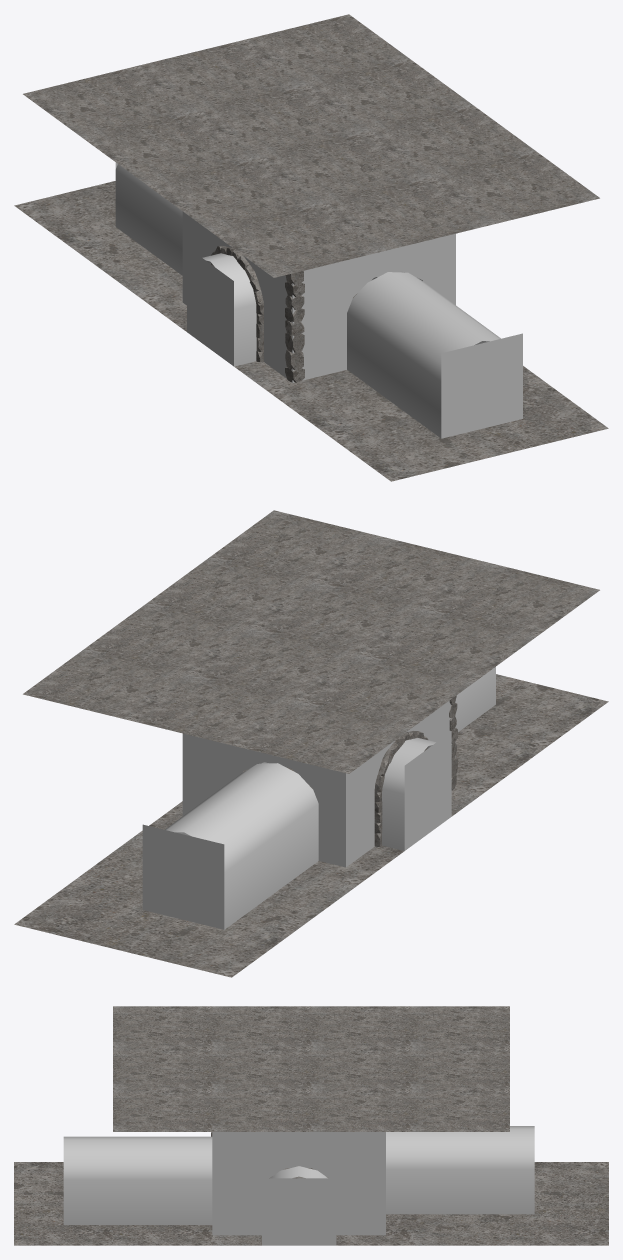
File: room.fbx
3 renders of one model, top to bottom at view 1: azimuth 30°, elevation 25°; view 2: azimuth 150°, elevation 25°; view 3: azimuth 270°, elevation 25°, orthographic. The views are drawn at different scales.
Visible parts, largest first — view 1: Plane.002, Plane.005, Plane.001, Stone_Column.003, Stone_Column.002; view 2: Plane.002, Plane.005, Plane.001, Stone_Column.002; view 3: Plane.002, Plane.005, Plane.001.
Part boxes in pixels (x1,y1,x2,y2): Plane.002: (23,14,599,277); Plane.005: (115,162,522,438); Plane.001: (14,181,608,481); Stone_Column.003: (285,271,304,382); Stone_Column.002: (211,245,263,362); Plane.002: (23,510,599,773); Plane.005: (142,667,495,929); Plane.001: (14,674,608,977); Stone_Column.002: (374,731,428,846); Plane.002: (113,1006,509,1131); Plane.005: (63,1126,534,1245); Plane.001: (14,1162,608,1245).
Bounding box in the file's own units: 1200 × 601 × 2400.
